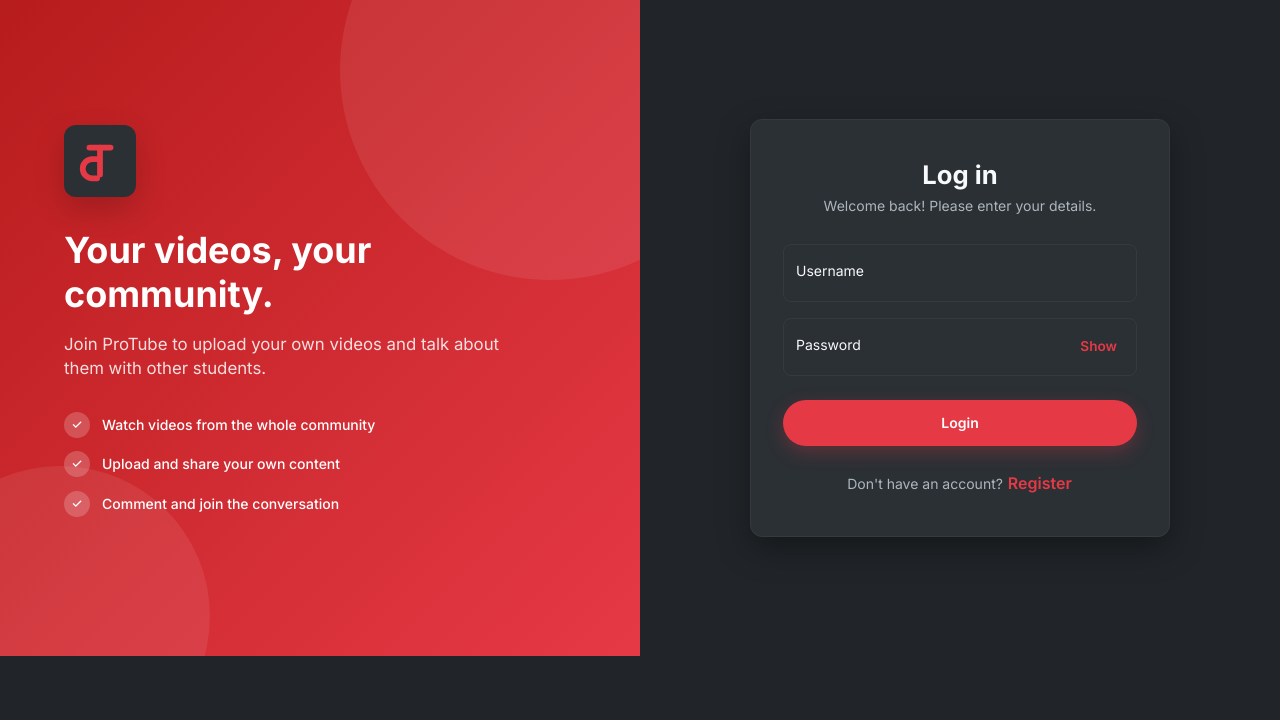
Scenario: LoginPage › requires username and password to log in
Click the button "Login": (960, 423) left=783, top=400, right=1137, bottom=446
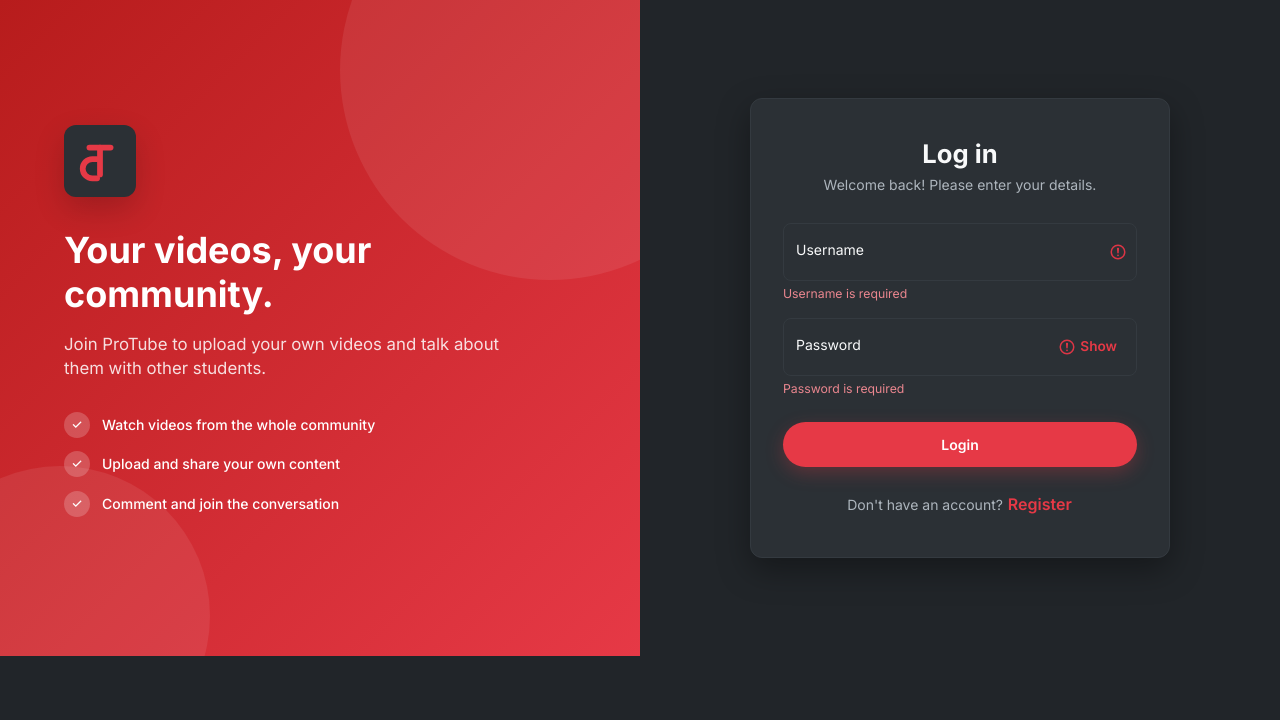
expect the text "Username is required" is shown: met, box left=783, top=286, right=907, bottom=301
expect the text "Password is required" is shown: met, box left=783, top=381, right=904, bottom=396
